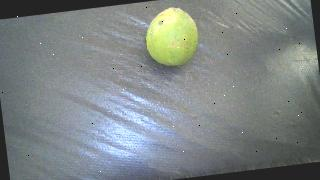DESECHO: (142, 5, 201, 69)
